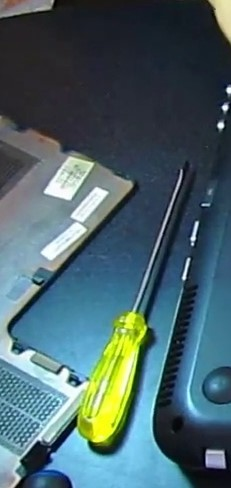screwdriver: (75, 155, 195, 445)
